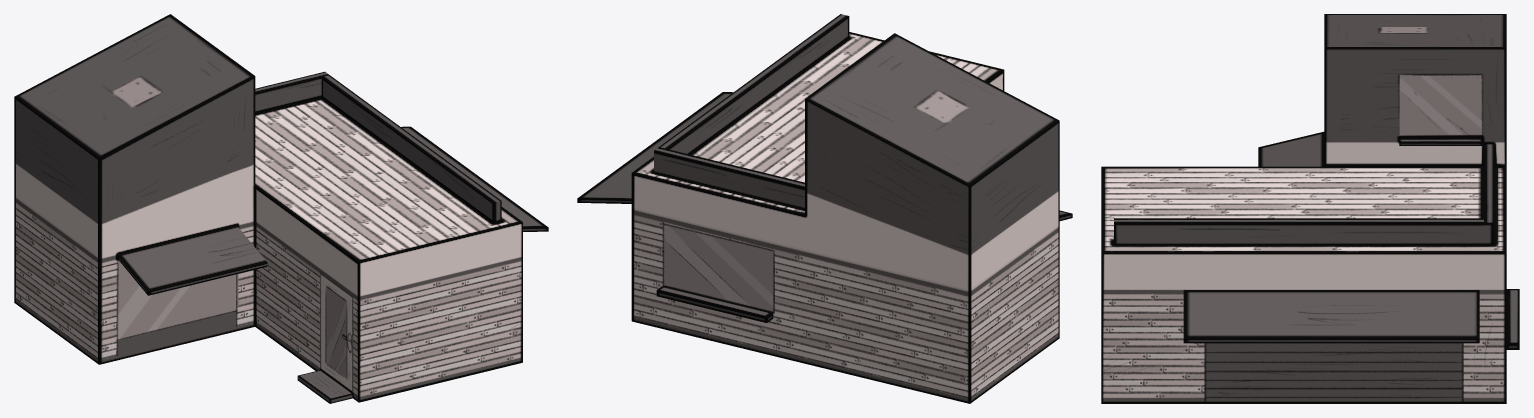
File: Maison moderne.fbx
The picture shows the model from 3 angles, left to right: view 1: azimuth 30°, elevation 25°; view 2: azimuth 150°, elevation 25°; view 3: azimuth 270°, elevation 25°; orthographic projection. The views are drawn at different scales.
Visible parts, largest first — view 1: House3; view 2: House3; view 3: House3.
Boxes of the visible parts, x1=… form: House3: x1=14, y1=14, x2=548, y2=403; House3: x1=577, y1=14, x2=1072, y2=403; House3: x1=1101, y1=14, x2=1519, y2=403.
Size of the model in its own units: 73.67 by 45.99 by 64.63.
